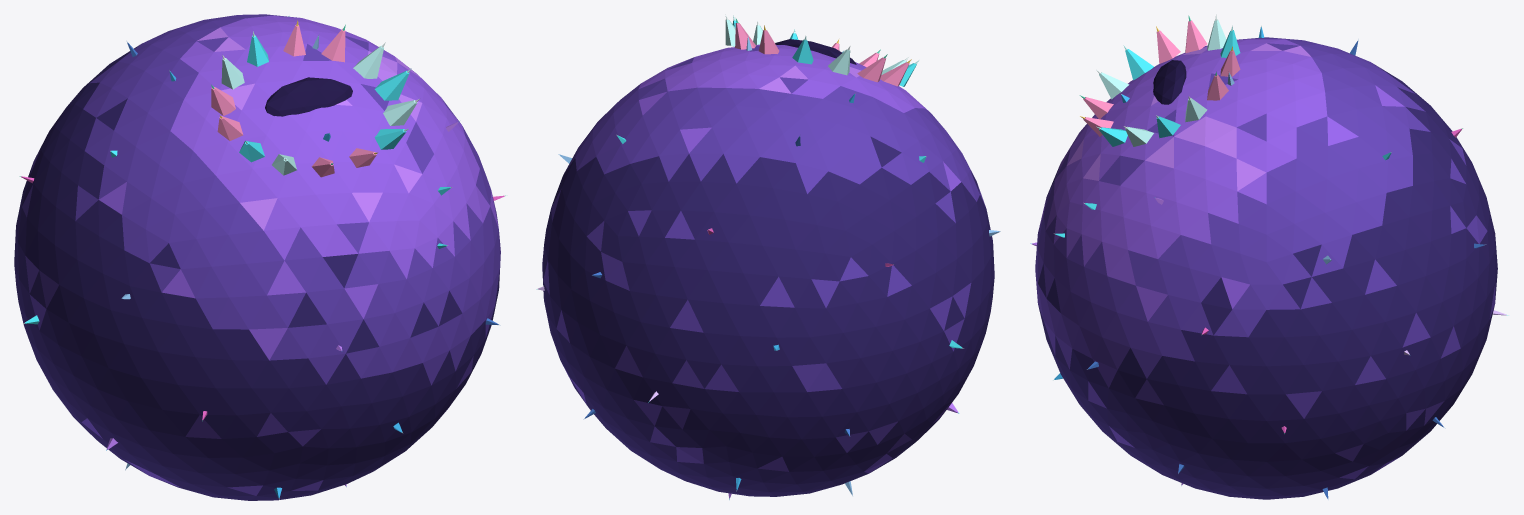
Rendered from Crystal_02.fbx.
The picture shows the model from 3 angles, left to right: view 1: azimuth 30°, elevation 25°; view 2: azimuth 150°, elevation 25°; view 3: azimuth 270°, elevation 25°; orthographic projection. The views are drawn at different scales.
Parts seen in each view (by area): view 1: Crystal_02; view 2: Crystal_02; view 3: Crystal_02.
Boxes of the visible parts, box(x1,y1,x2,y2) form: Crystal_02: box(14, 14, 505, 500); Crystal_02: box(536, 14, 1000, 499); Crystal_02: box(1030, 14, 1507, 499).
Size of the model in its own units: 6.24 by 6.44 by 6.22.
1 material, 1 textured.
